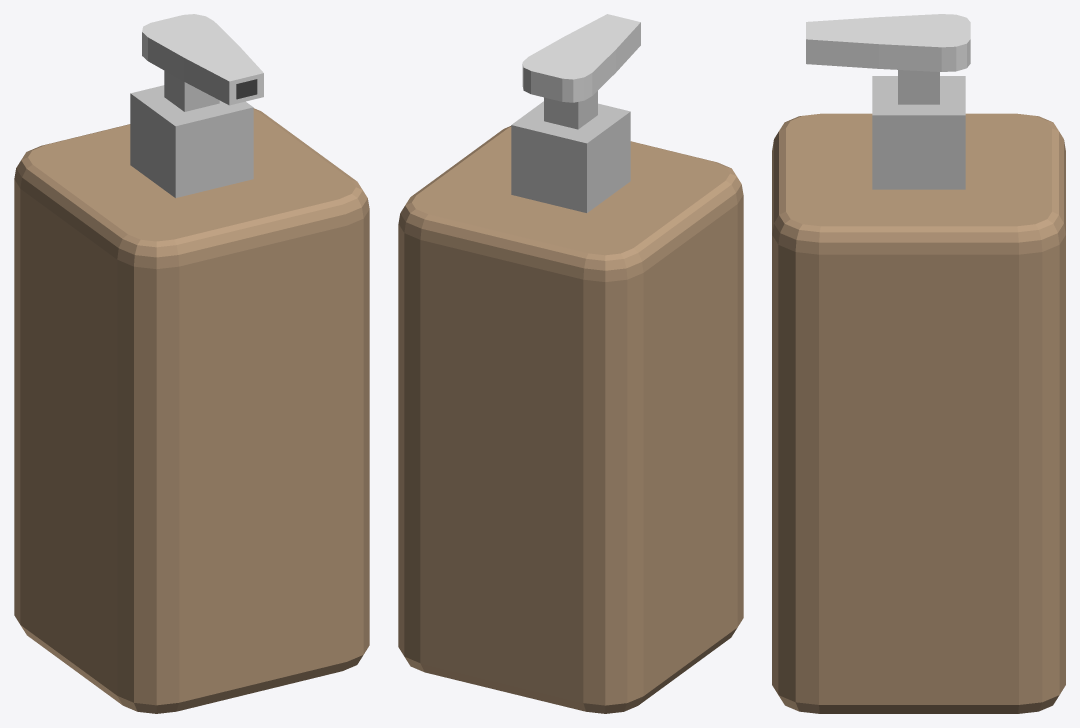
The model's file is BathroomProps_05.fbx.
3 views of the same model, side by side, from view 1: azimuth 30°, elevation 25°; view 2: azimuth 150°, elevation 25°; view 3: azimuth 270°, elevation 25° (orthographic). The views are drawn at different scales.
Visible parts, largest first — view 1: BathroomProps_05; view 2: BathroomProps_05; view 3: BathroomProps_05.
Boxes of the visible parts, x1,y1,x2,y2 form: BathroomProps_05: (14, 14, 369, 713); BathroomProps_05: (398, 14, 743, 713); BathroomProps_05: (772, 14, 1065, 713).
Bounding box in the file's own units: 7.04 × 16.51 × 7.04.
